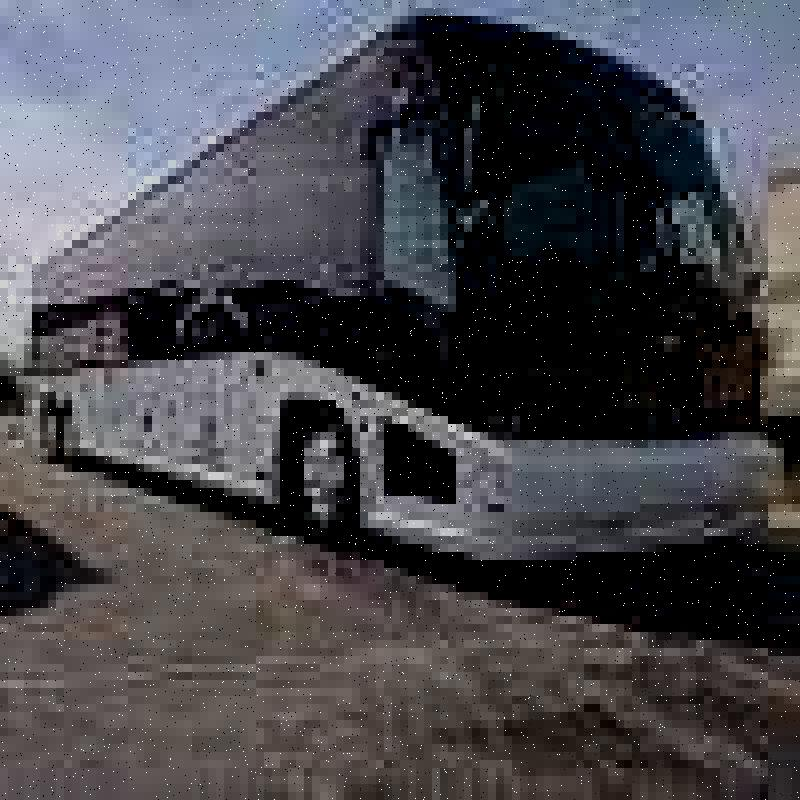bus: (22, 8, 784, 592)
